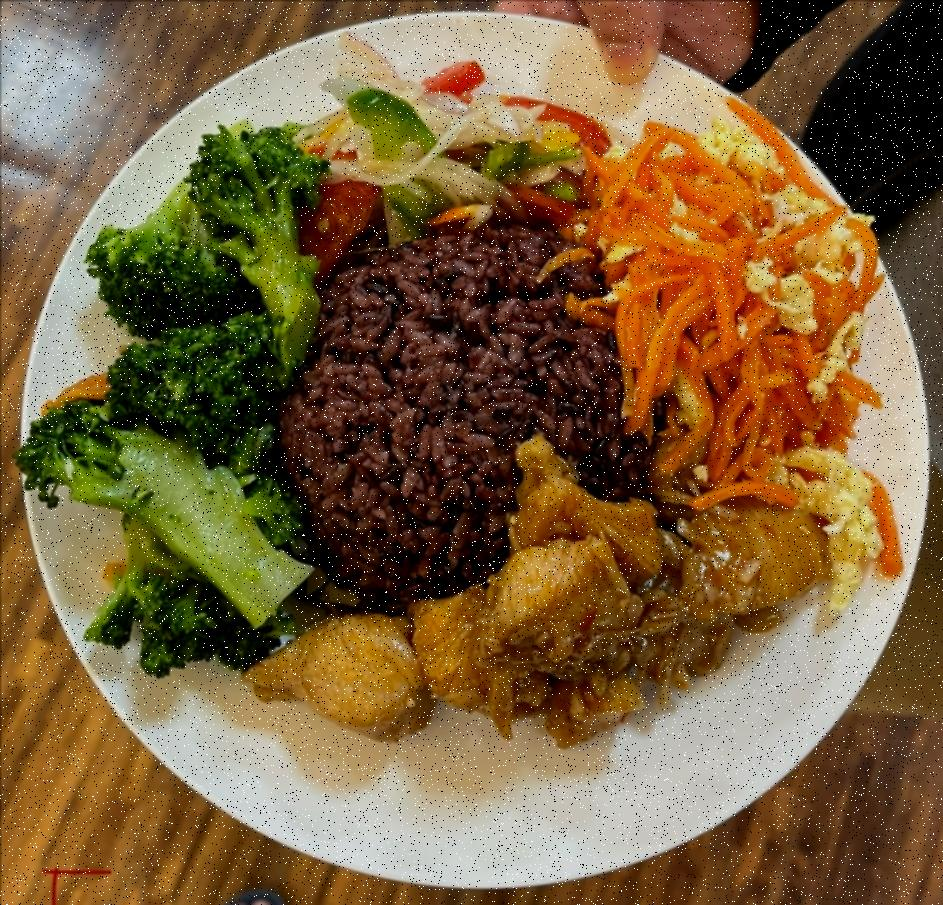big fried chicken leg: (12, 15, 943, 894)
braised fish: (272, 218, 628, 594)
braised fish fillet: (21, 110, 333, 673), (580, 107, 908, 594), (301, 38, 610, 244)
braised pork: (267, 444, 828, 764)
